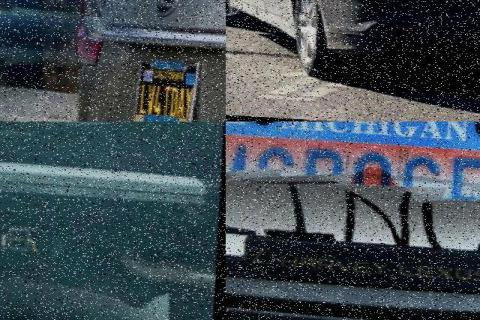LicensePlate: (225, 122, 480, 278), (127, 61, 199, 122), (0, 122, 83, 150)
